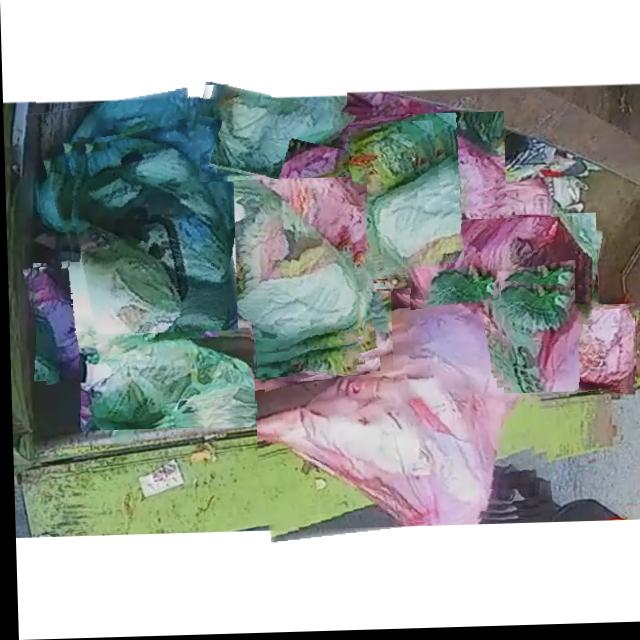general_trashbag: (131, 170, 358, 359), (69, 140, 235, 332), (289, 124, 439, 280), (78, 333, 253, 426), (201, 87, 347, 180), (500, 286, 570, 395)
other_trashbag: (254, 290, 527, 526), (38, 91, 189, 232), (336, 117, 505, 204), (409, 220, 591, 300), (255, 295, 389, 375), (30, 268, 92, 380), (569, 310, 633, 393)
